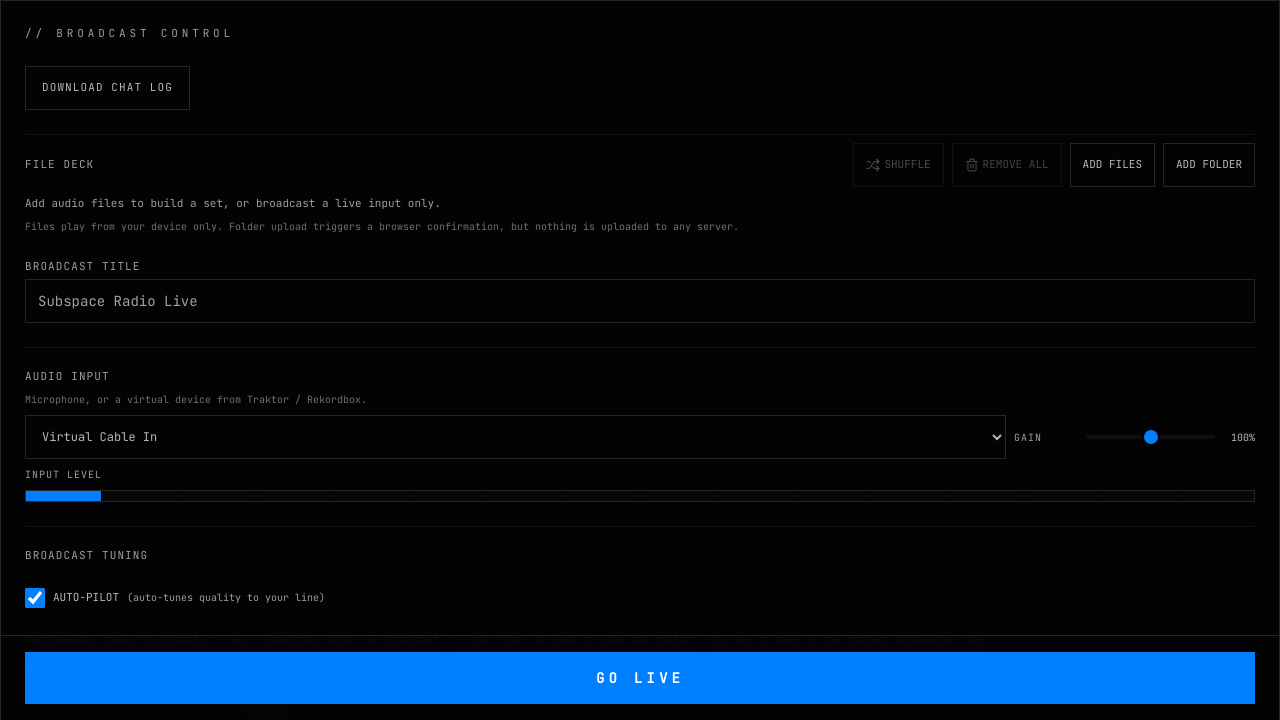
Test case: GoLivePanel › surfaces an error instead of spinning forever when reconnects are exhausted
What coordinates should you click on to do the following:
click the button with test id "go-live-btn"
I would click on:
 (640, 678)
Its box is [25,652,1255,704].
Wait 217000 ms
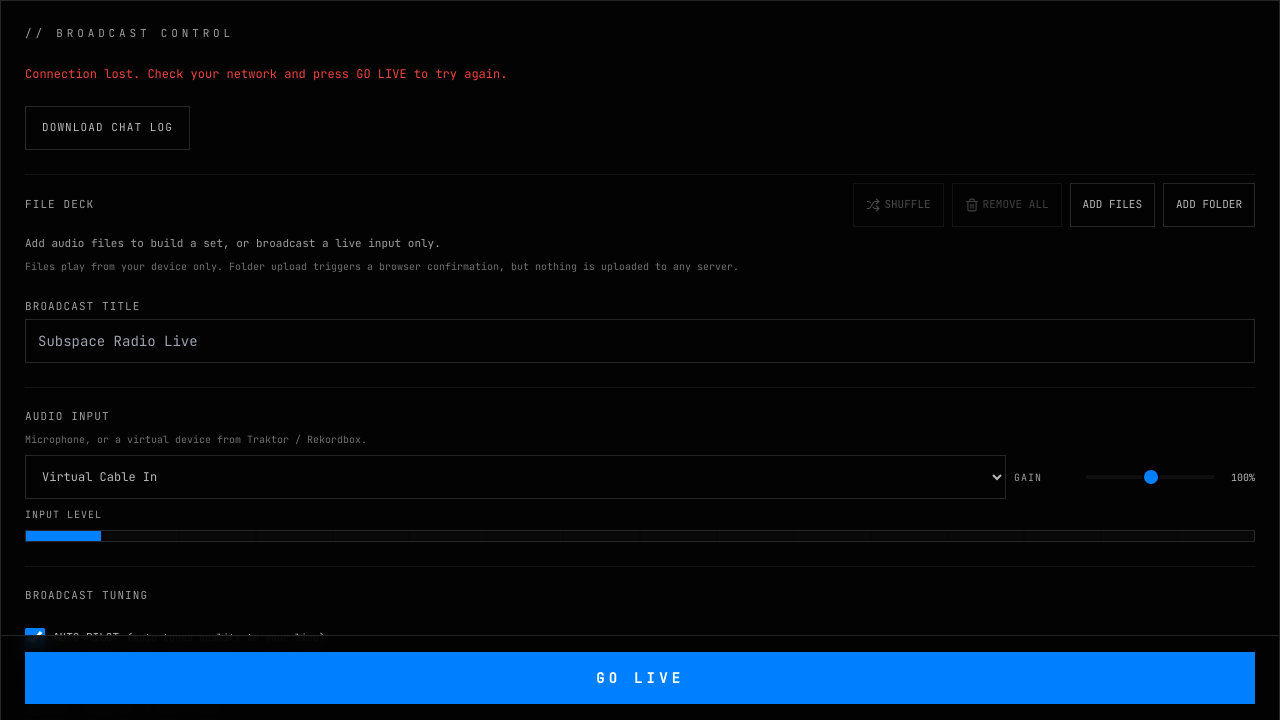
Expected: the message "Connection lost. Check your network and press GO LIVE to try again." is shown, [25,66,507,82]
